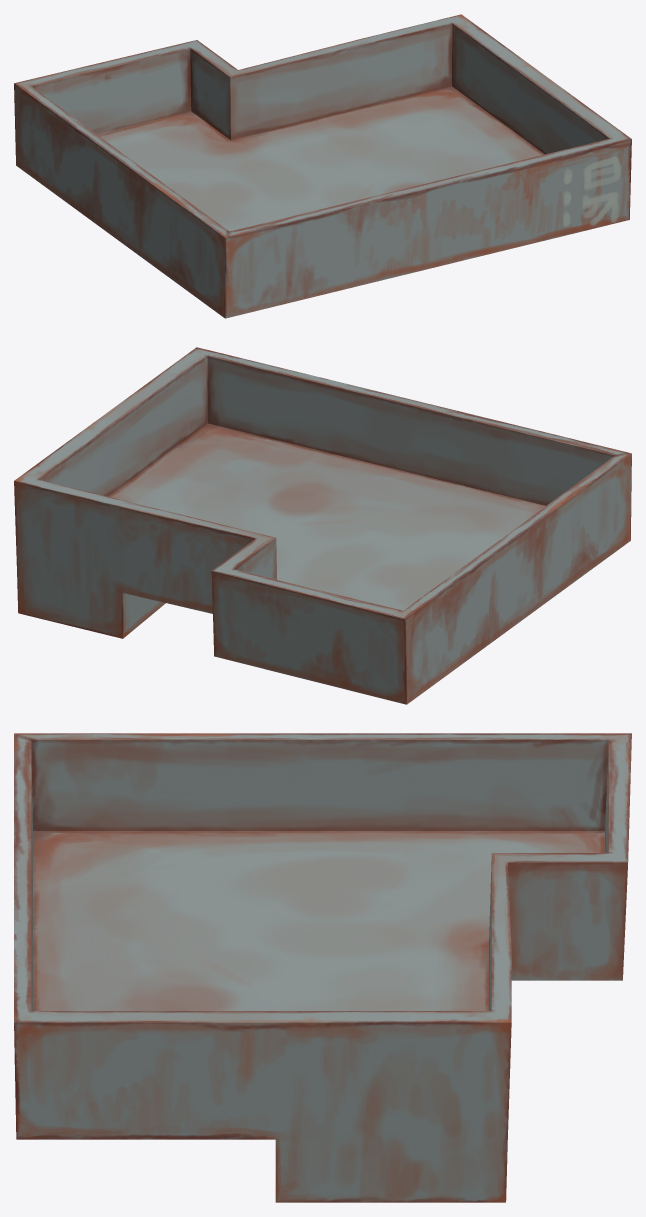
Rendered from bathtub.obj.
The picture shows the model from 3 angles, top to bottom: view 1: azimuth 30°, elevation 25°; view 2: azimuth 150°, elevation 25°; view 3: azimuth 270°, elevation 25°; orthographic projection. The views are drawn at different scales.
Parts seen in each view (by area): view 1: polySurface1449 polySurface1263; view 2: polySurface1449 polySurface1263; view 3: polySurface1449 polySurface1263.
Part boxes in pixels (bbox=[...]): polySurface1449 polySurface1263: bbox=[14, 14, 631, 318]; polySurface1449 polySurface1263: bbox=[14, 347, 631, 704]; polySurface1449 polySurface1263: bbox=[14, 733, 631, 1202].
Bounding box in the file's own units: 5.98 × 1.75 × 5.4.
Materials: 1 (1 with a texture image).
